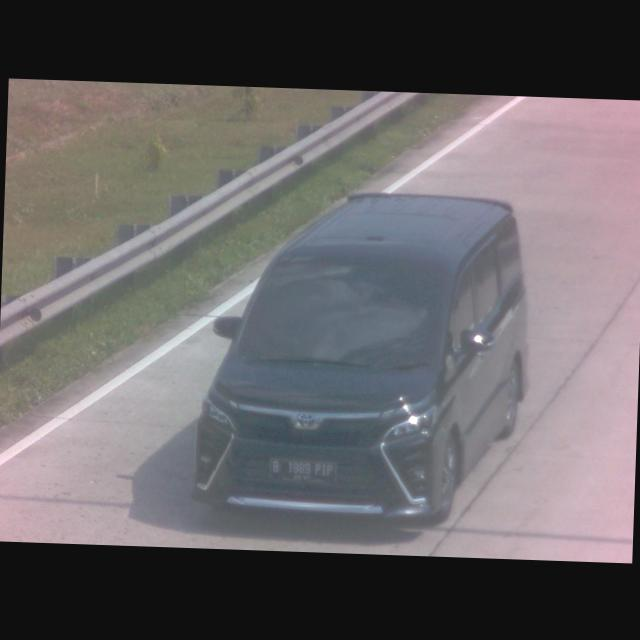plate: (266, 456, 338, 484)
